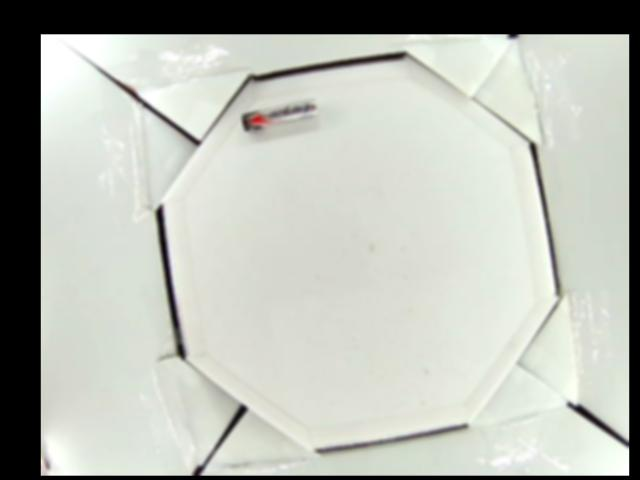Battery: (241, 97, 319, 132)
